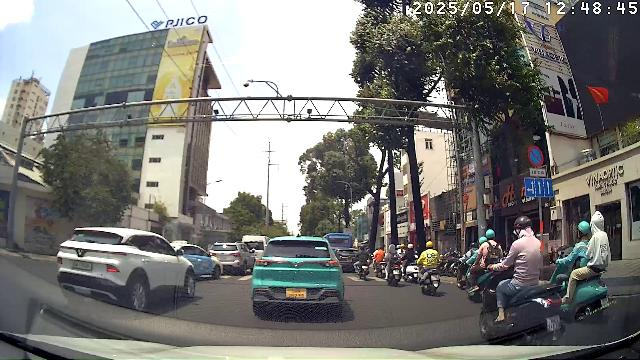131a-cam-do-xe: (528, 144, 544, 167)
